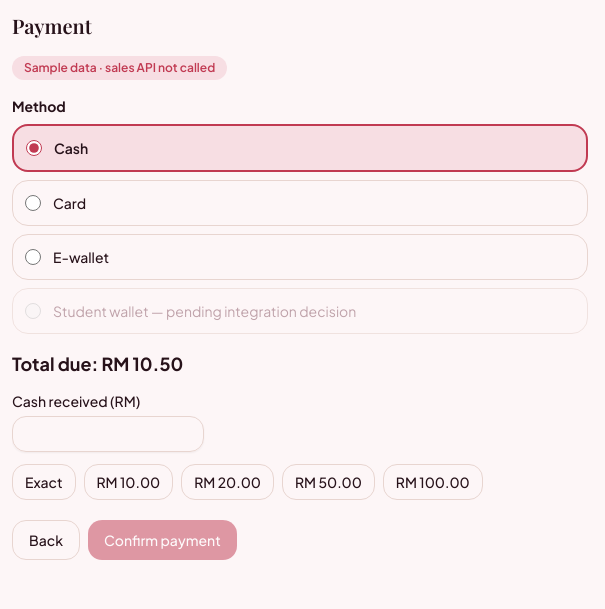
Test: detached preview PaymentPanel › shows insufficient cash validation and change due
This screenshot has width=605, height=609.
Step 1. Click the button "Exact" → {"x": 44, "y": 482}, box [12, 464, 76, 500]
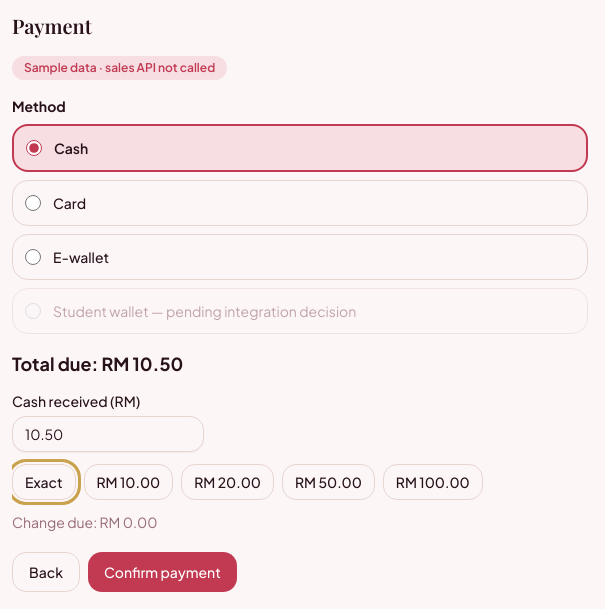
Now the text "Change due: RM 0.00" is shown, box [12, 513, 157, 531]
Step 2. Replace the text in the number field labelled "Cash received (RM)" with "5" → {"x": 108, "y": 434}, box [12, 416, 204, 452]
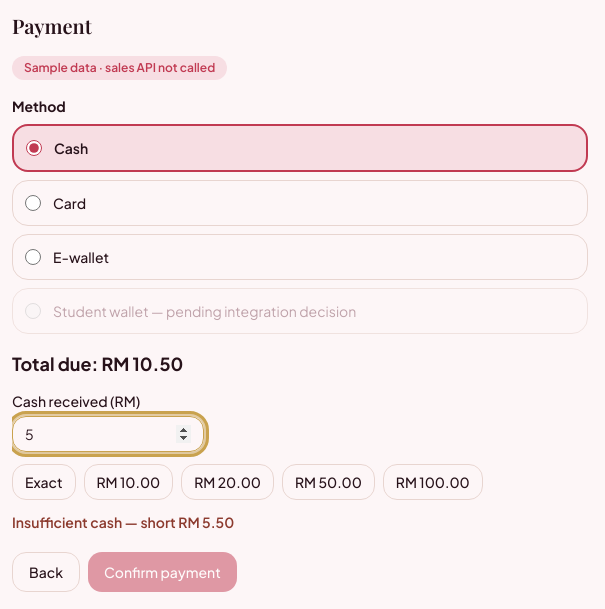
Now the button "Confirm payment" is disabled, box [88, 552, 237, 592]
Now the text "Insufficient cash — short RM 5.50" is shown, box [12, 513, 234, 531]
